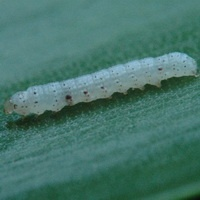insect: (4, 52, 196, 114)
